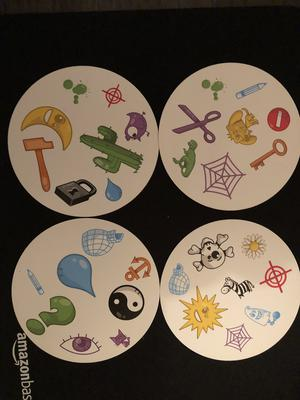ancre: (124, 254, 152, 283)
cactus: (76, 123, 144, 177)
cadenas: (52, 176, 98, 208)
chat: (107, 328, 133, 349)
chien: (224, 106, 262, 148)
cible: (258, 259, 292, 292), (100, 83, 128, 108)
ciseau: (171, 102, 222, 145)
cle: (248, 137, 290, 171)
crayon: (233, 80, 271, 101), (24, 267, 46, 297)
dinosore: (170, 140, 201, 179)
fantome: (242, 305, 282, 329)
fleur: (240, 232, 270, 260)
goutte: (55, 253, 98, 299), (102, 175, 124, 203)
igloo: (80, 227, 125, 257), (166, 263, 191, 297)
lune: (18, 105, 73, 152)
marteau: (20, 135, 56, 193)
oeuil: (55, 332, 104, 357)
oiseau: (122, 110, 151, 143)
point_interrogation: (26, 295, 77, 335)
sens_interdit: (262, 106, 292, 135)
soleil: (177, 285, 230, 341)
tache: (60, 77, 90, 106), (199, 75, 227, 103)
tete_mort: (186, 232, 237, 273)
toile: (201, 154, 246, 198), (221, 317, 254, 352)
ying_yang: (107, 283, 145, 322)
zebre: (221, 273, 256, 303)
